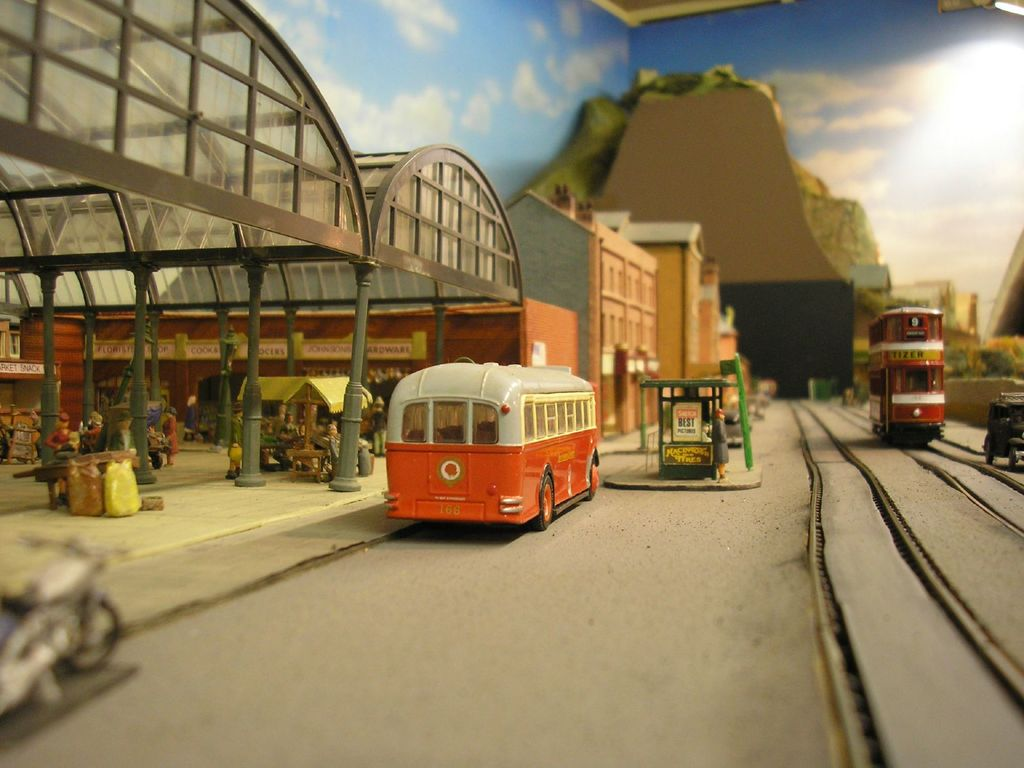Bus: (379, 362, 601, 534)
